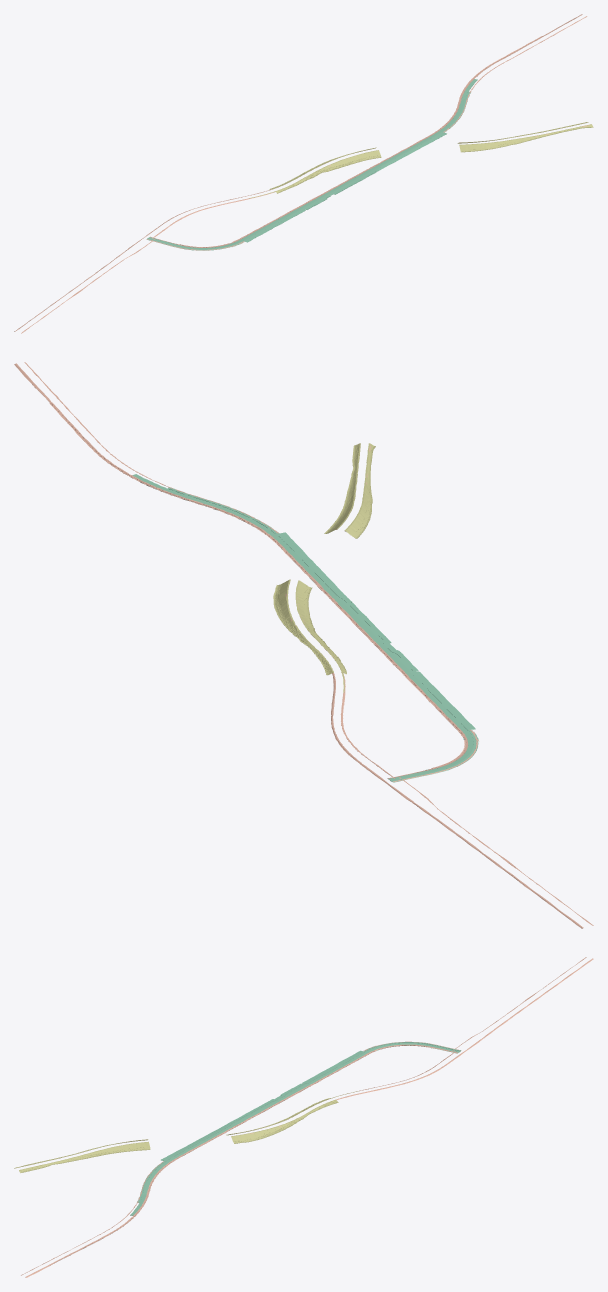
The picture shows the model from 3 angles, top to bottom: view 1: azimuth 90°, elevation 25°; view 2: azimuth 150°, elevation 25°; view 3: azimuth 270°, elevation 25°; orthographic projection. The views are drawn at different scales.
Bounding box in the file's own units: 1234 × 10.76 × 946.
